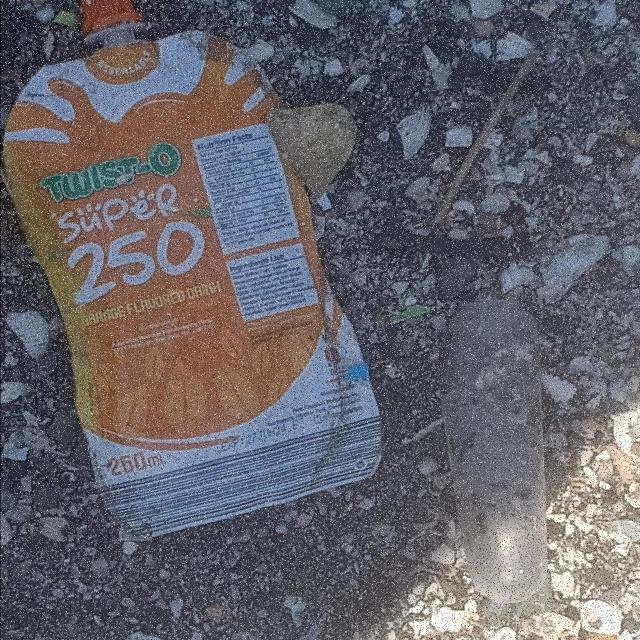plastic_waste: (1, 1, 385, 546)
